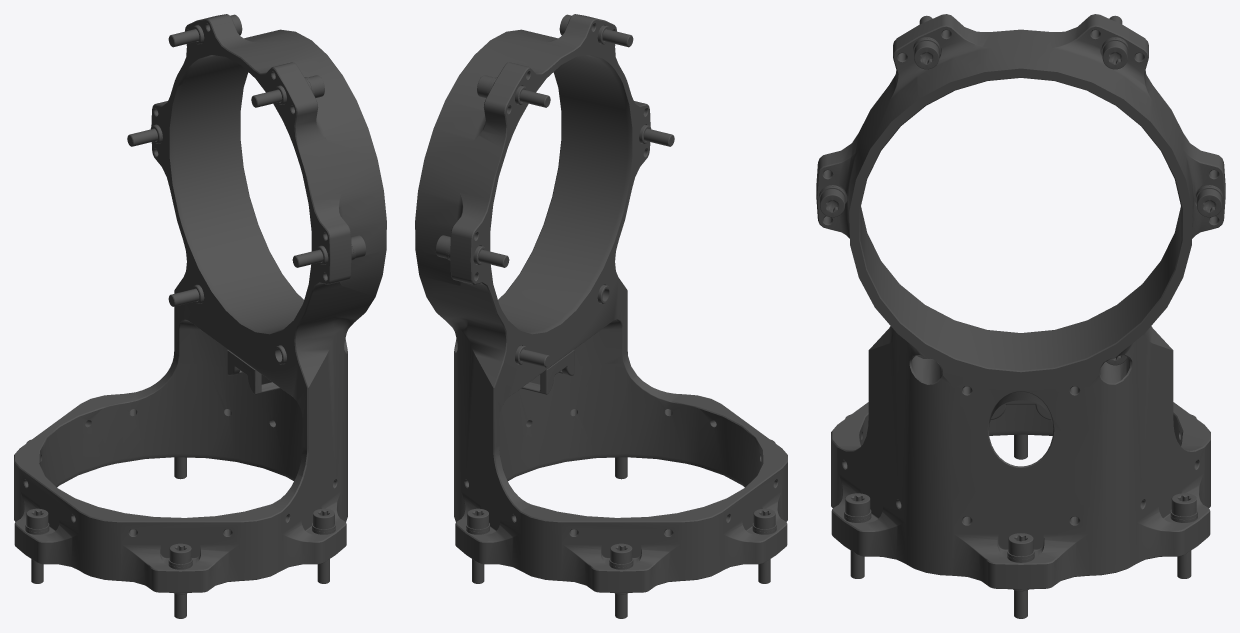
File: link_torso_z.glb
3 renders of one model, left to right at view 1: azimuth 30°, elevation 25°; view 2: azimuth 150°, elevation 25°; view 3: azimuth 270°, elevation 25°, orthographic. The views are drawn at different scales.
Parts seen in each view (by area): view 1: link_torso_z; view 2: link_torso_z; view 3: link_torso_z.
Part boxes in pixels (<box>): link_torso_z: <box>14,14,386,618</box>; link_torso_z: <box>415,14,787,618</box>; link_torso_z: <box>816,14,1225,618</box>.
Bounding box in the file's own units: 0.114 × 0.171 × 0.114.
Materials: 1 (1 with a texture image).
